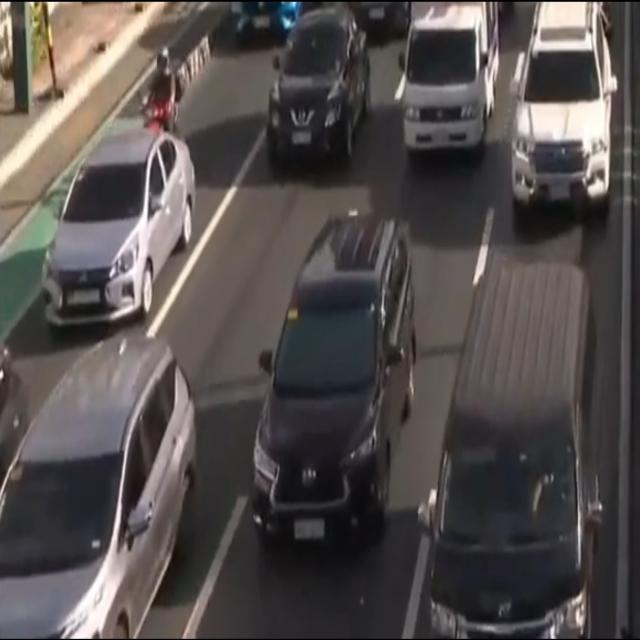Motorcycle: (138, 45, 182, 148)
Pick-up: (401, 0, 503, 164)
SUV: (0, 342, 200, 640), (248, 215, 414, 539), (512, 0, 610, 215)
Sedan: (41, 116, 200, 336), (264, 13, 371, 169)
Van: (420, 266, 599, 640)
